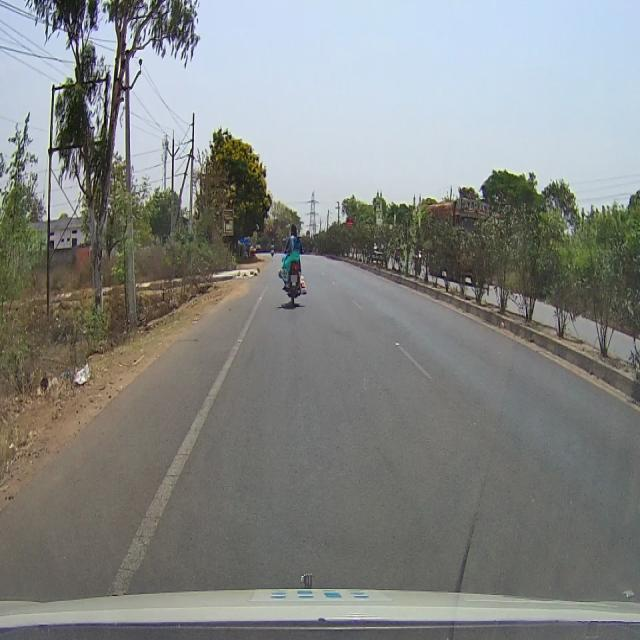motorcycle ahead at: (275, 255, 311, 309)
